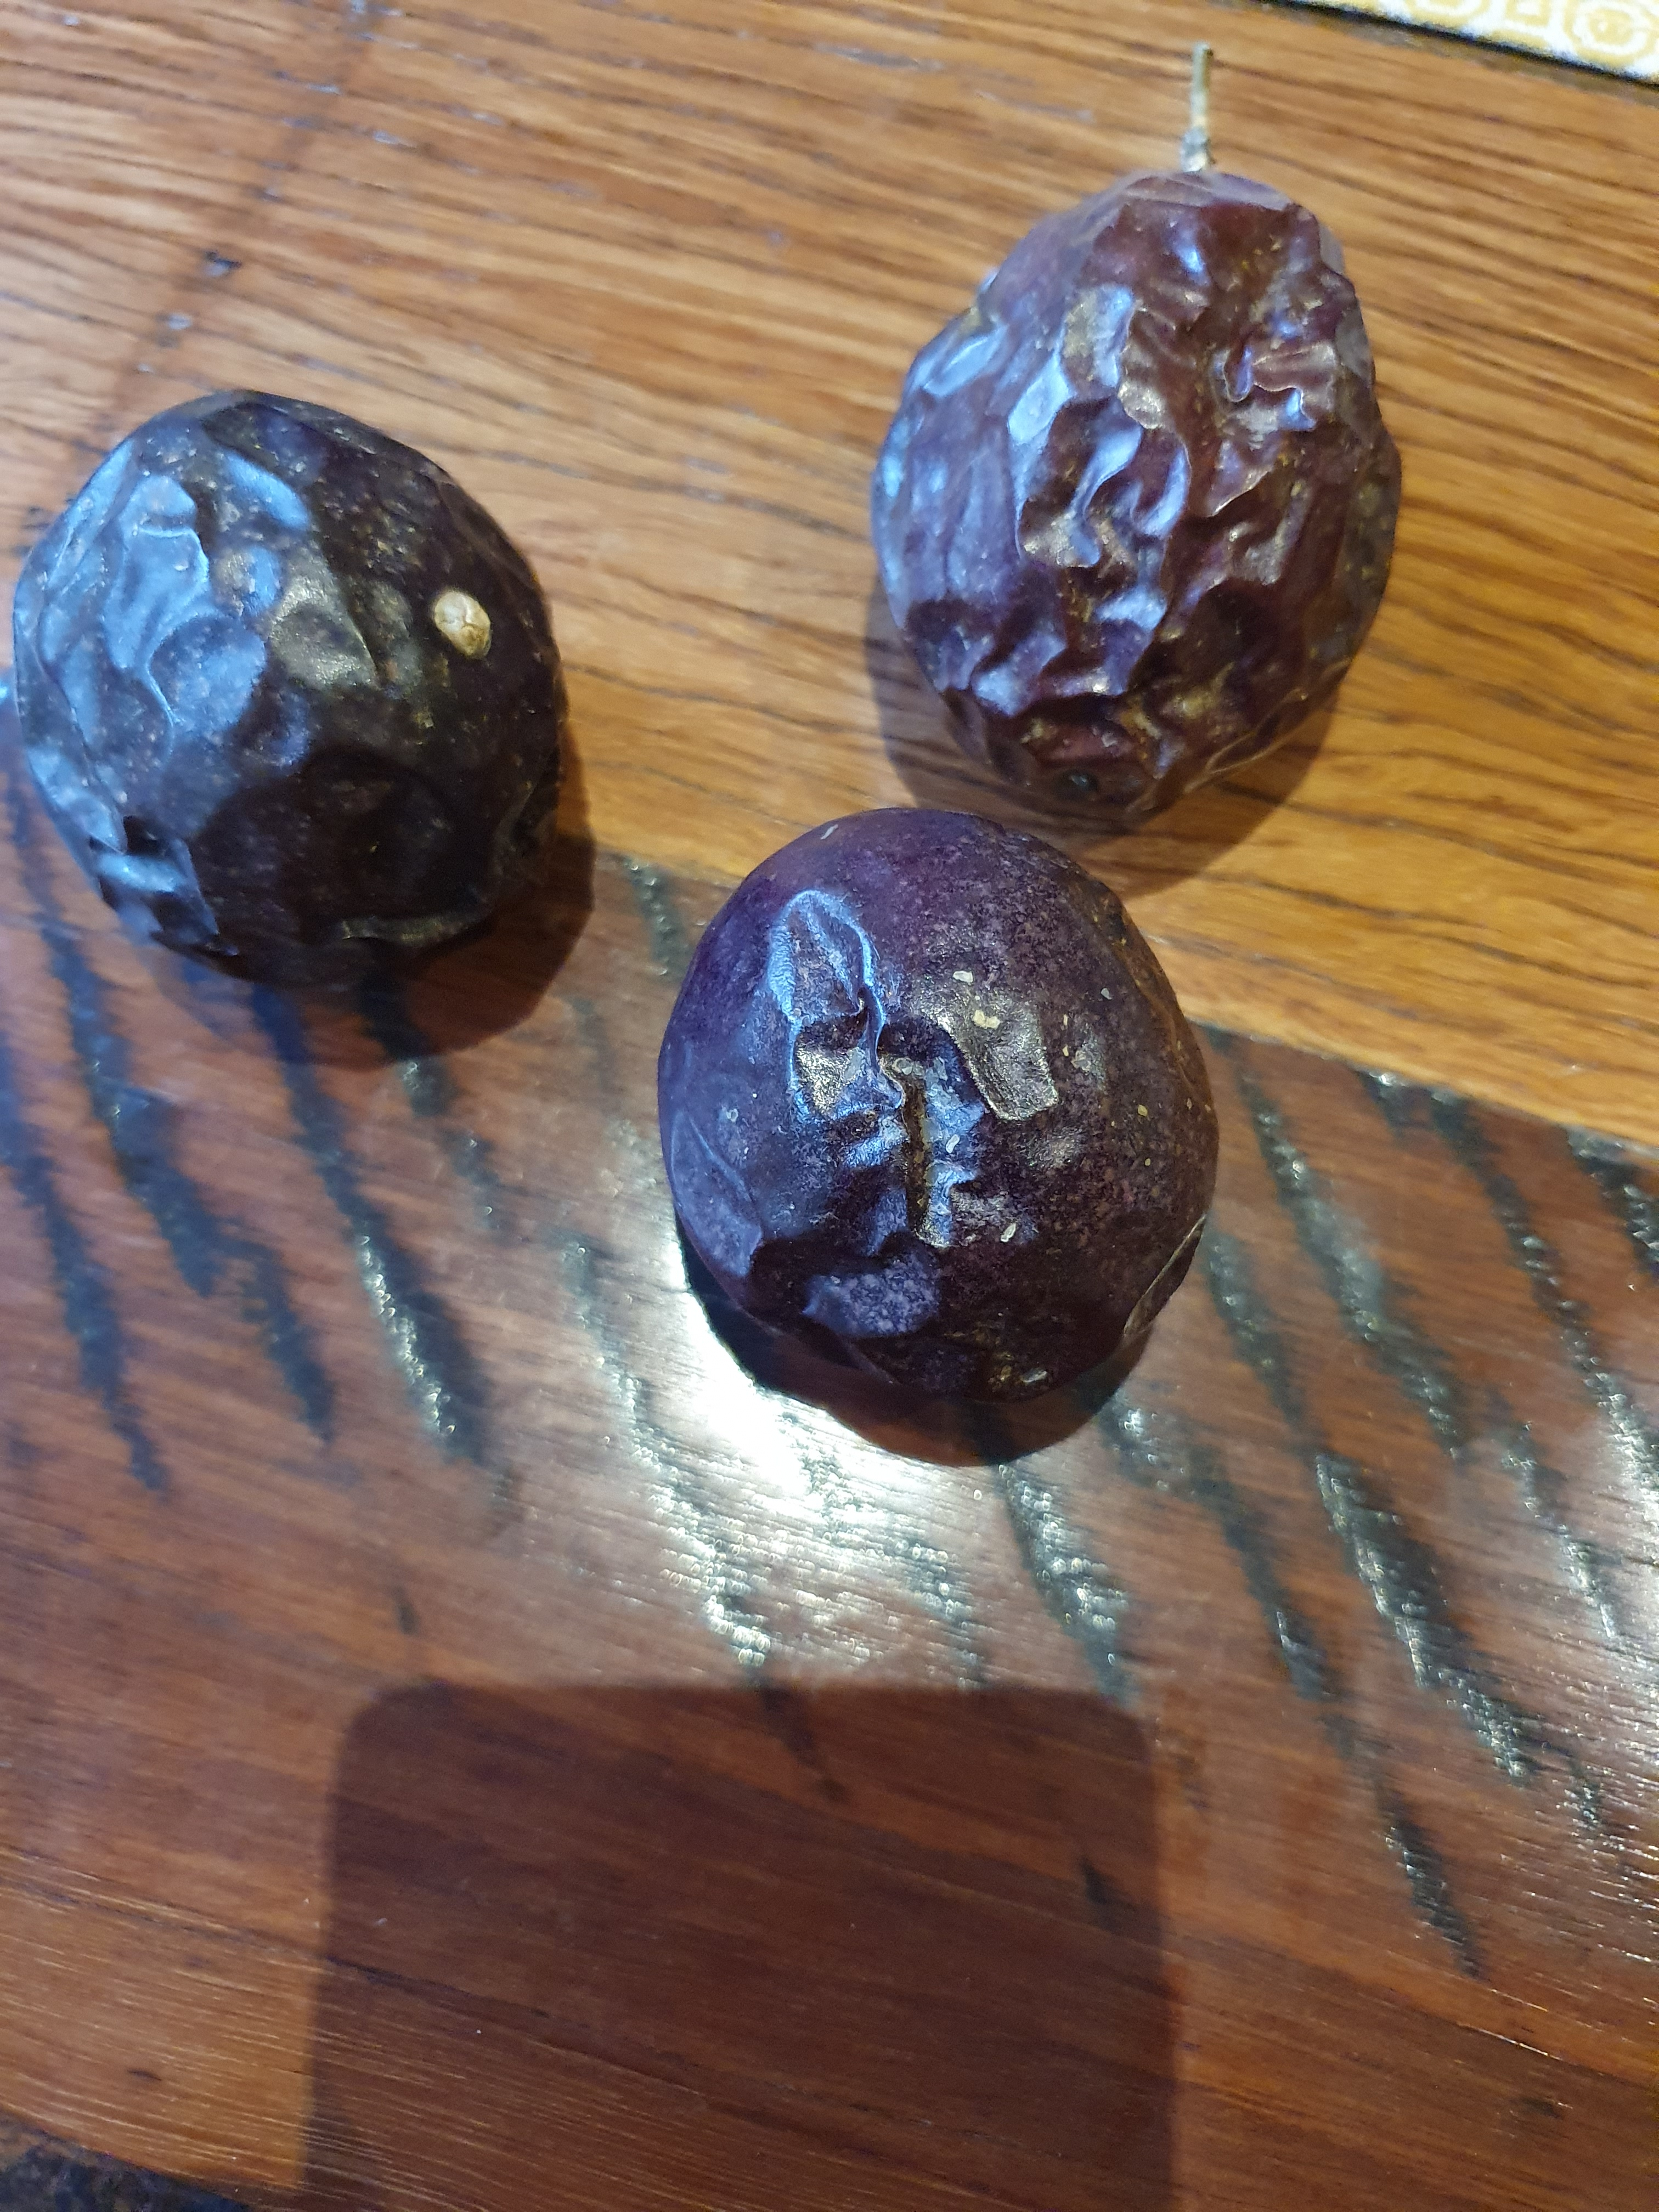passionfruit: (859, 44, 1413, 815), (3, 345, 579, 1007), (643, 805, 1230, 1453)
